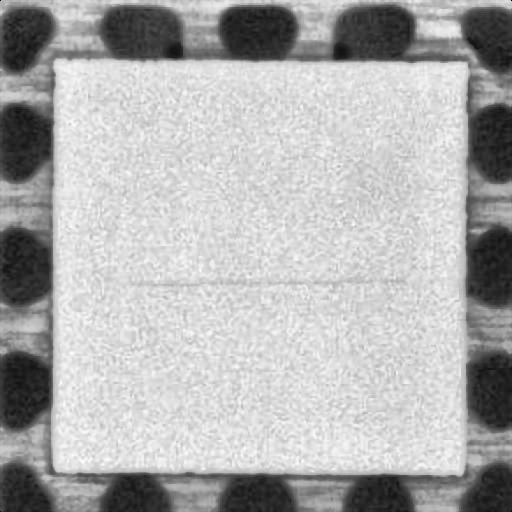DIE_CRACK: (118, 270, 405, 288)
